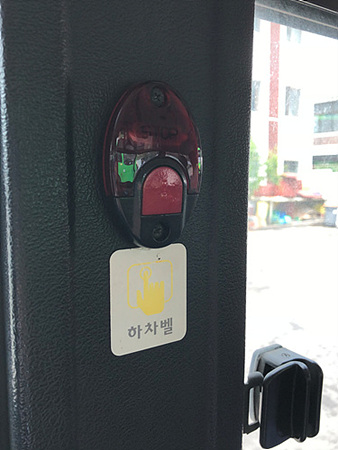bell: (101, 78, 204, 250)
